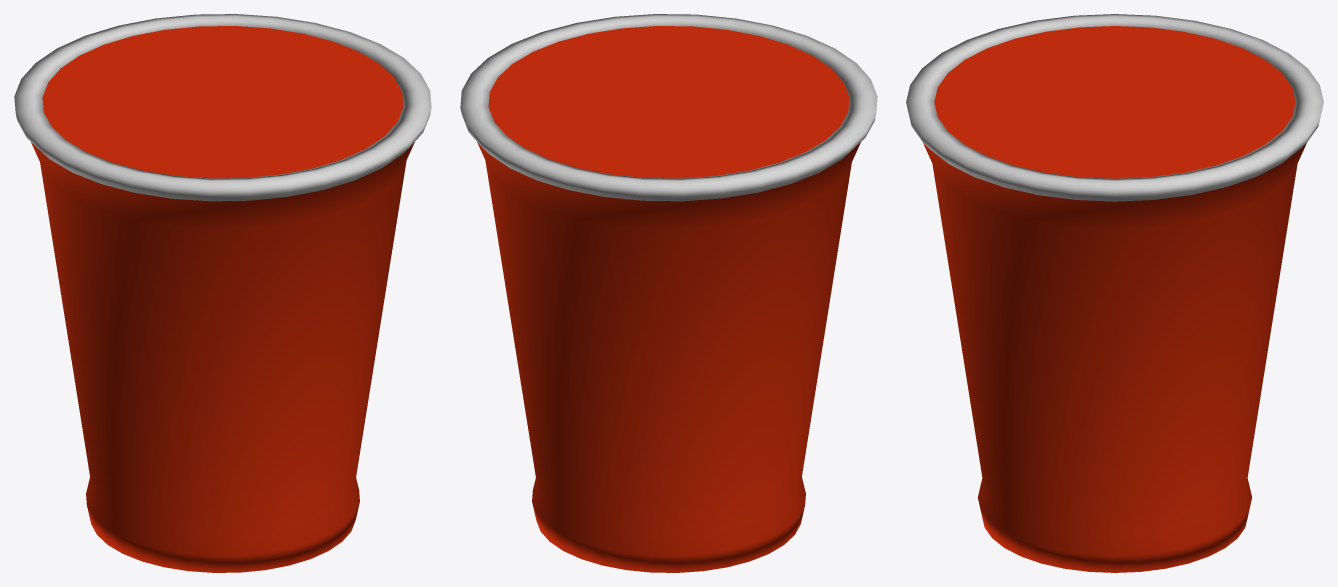
File: cup.fbx
3 renders of one model, left to right at view 1: azimuth 30°, elevation 25°; view 2: azimuth 150°, elevation 25°; view 3: azimuth 270°, elevation 25°, orthographic.
Visible parts, largest first — view 1: Cup; view 2: Cup; view 3: Cup.
Part boxes in pixels (x1,y1,x2,y2): Cup: (14,14,431,572); Cup: (460,14,877,572); Cup: (906,14,1323,572).
Bounding box in the file's own units: 228 × 251 × 228.
